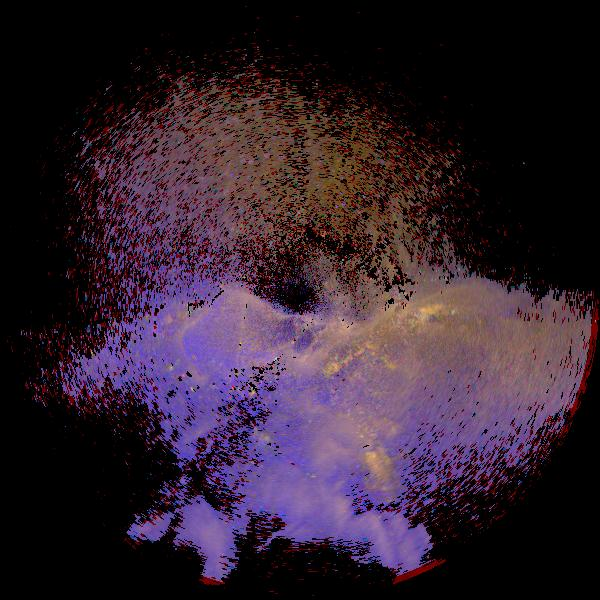roost: (168, 366, 174, 372), (189, 387, 195, 393)
